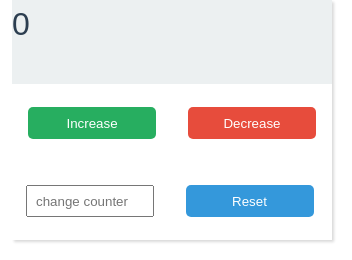
Test: Counter component check › Should increase state +1 after click button "Increase"
This screenshot has width=352, height=260.
Click the button with class "increaseBtn" at [92, 123], box [28,107,156,139]
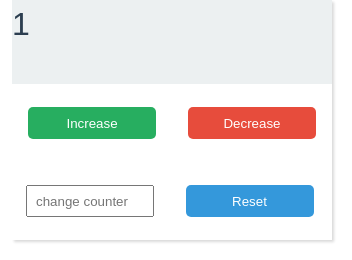
Result: the text "1" is shown at [12,0,332,84]
